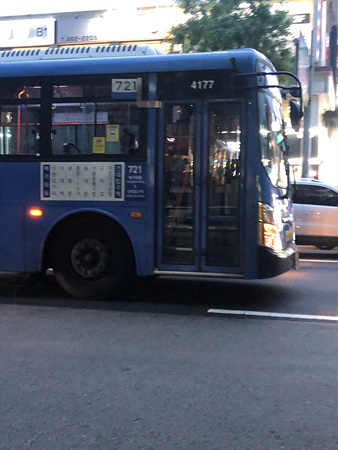entrance: (158, 96, 252, 277)
